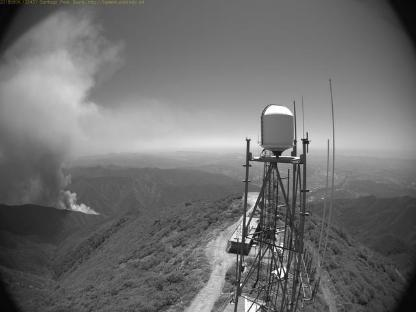smoke: (1, 8, 107, 218)
